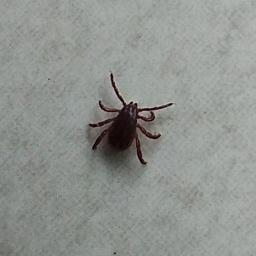Rhipicephalus sanguineus: (88, 72, 174, 167)
